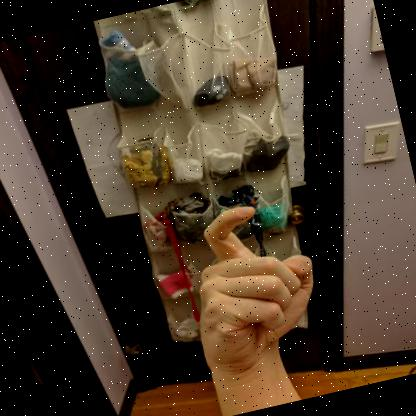X: (200, 206, 313, 376)
